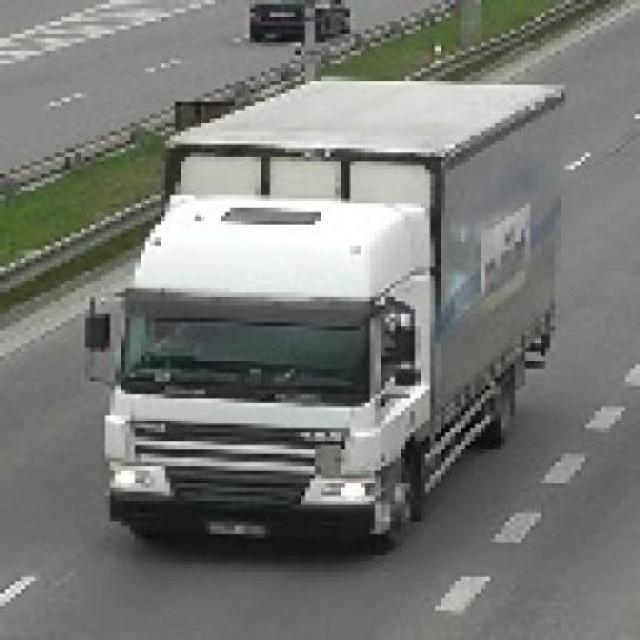truck: (81, 64, 561, 556)
